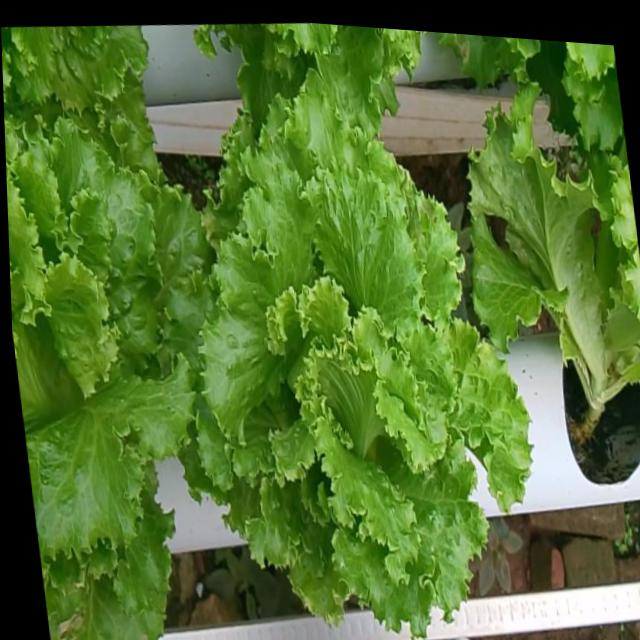Mature: (191, 104, 524, 640), (6, 127, 205, 572)
